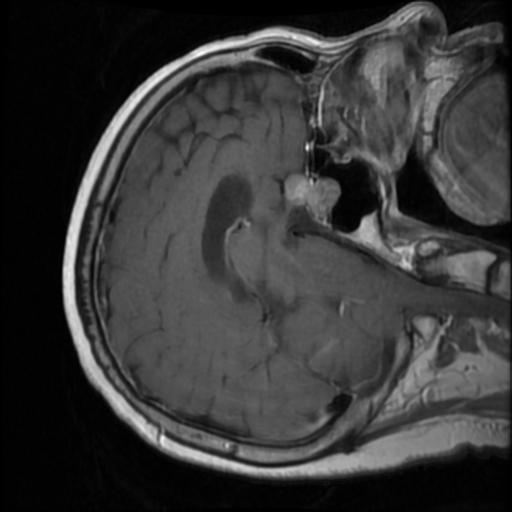pituitary tumour: (283, 173, 339, 217)
